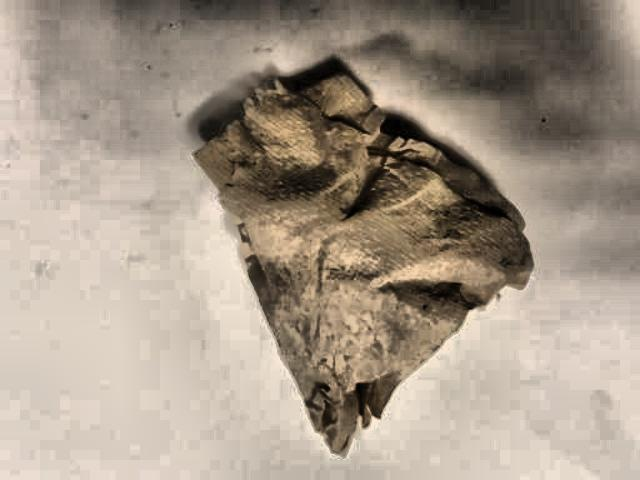Paper: (169, 57, 533, 451)
